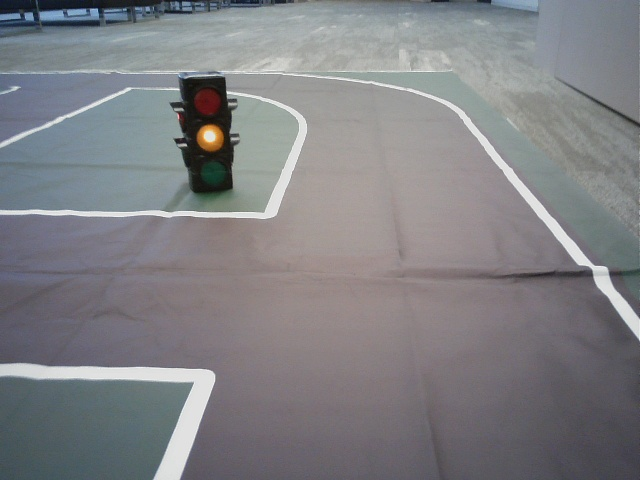yellow: (183, 84, 228, 187)
